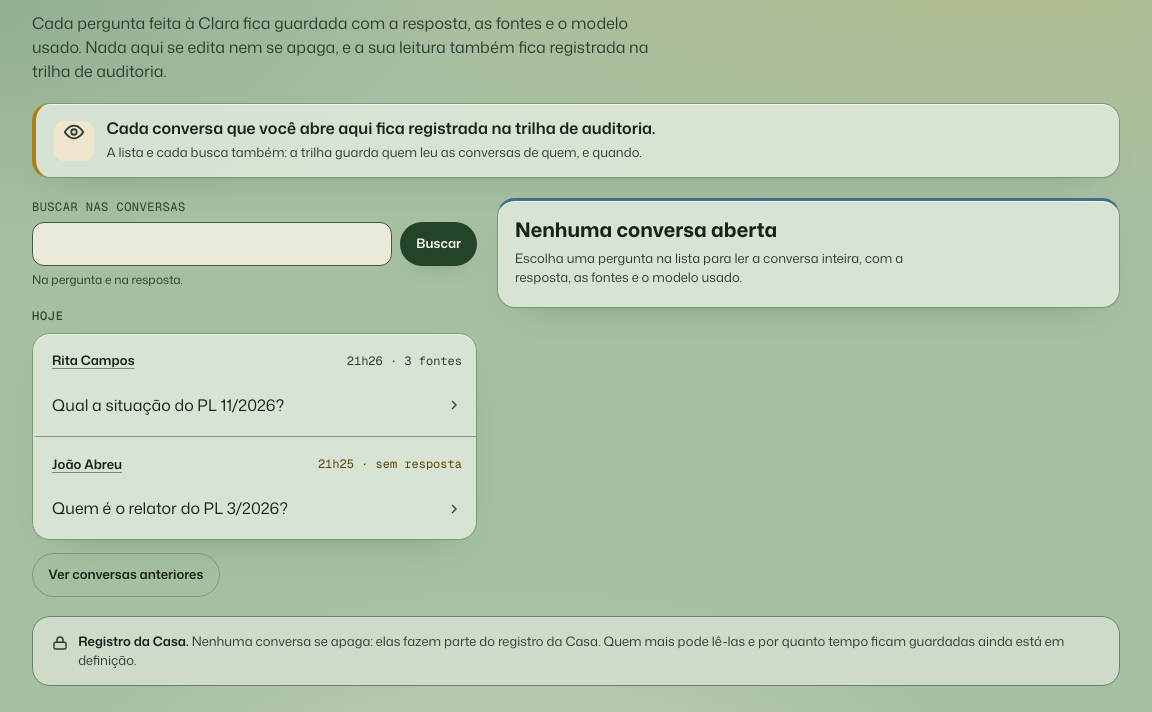
Test: Conversas com a Clara (/auditoria/clara) › 'Ver conversas anteriores' continua de onde a lista parou
The width and height of the screenshot is (1152, 712).
(page scrolled)
Click the button "Ver conversas anteriores" at point(126, 575), box [32,553,220,597]
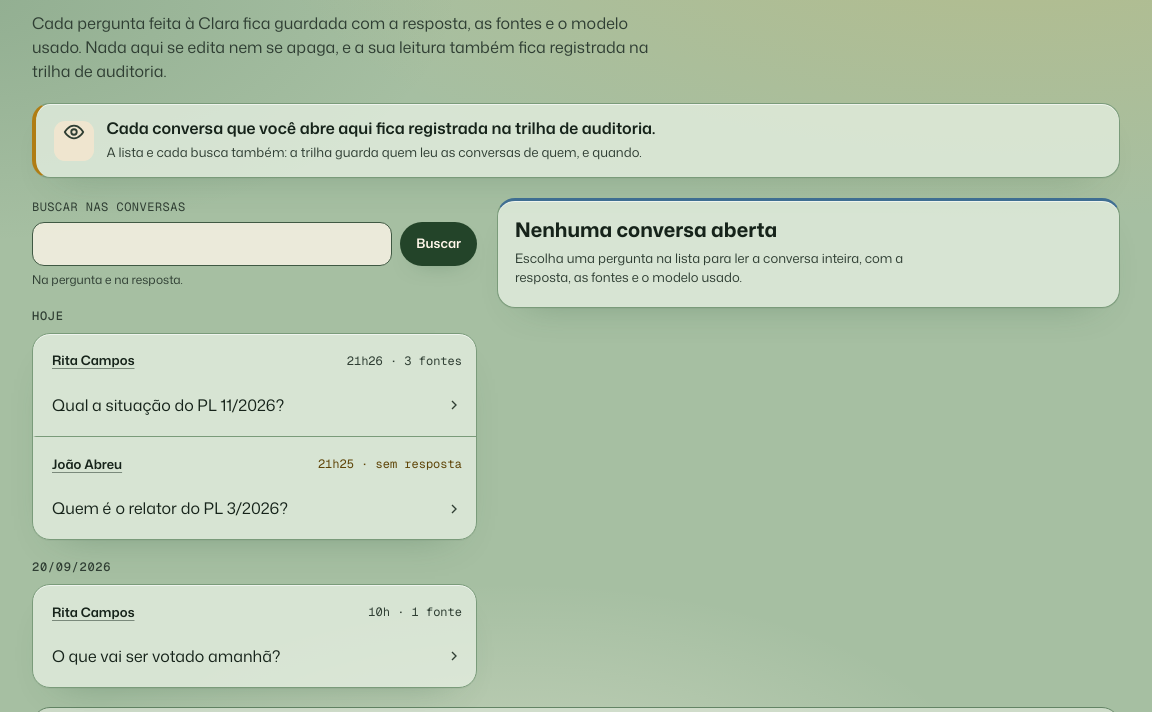
Result: the button "O que vai ser votado amanhã?" is shown at [46,634,468,678]
Result: the button "Ver conversas anteriores" is gone
